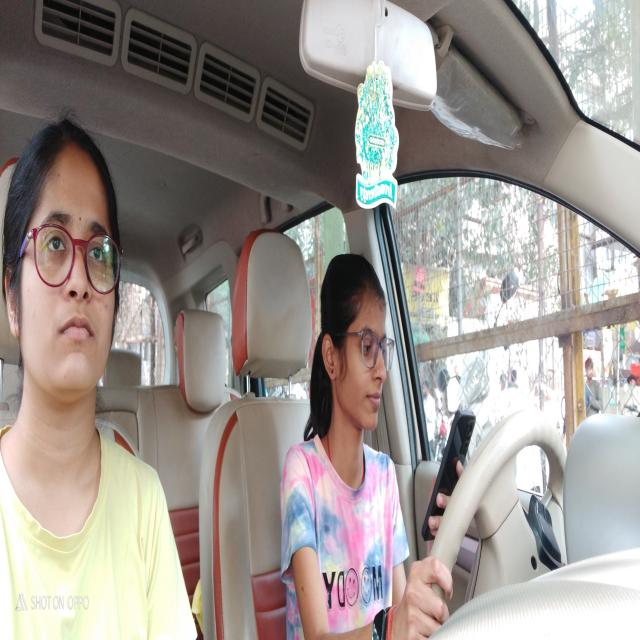mobile: (423, 399, 476, 538)
person: (4, 106, 123, 408), (317, 254, 396, 433)
